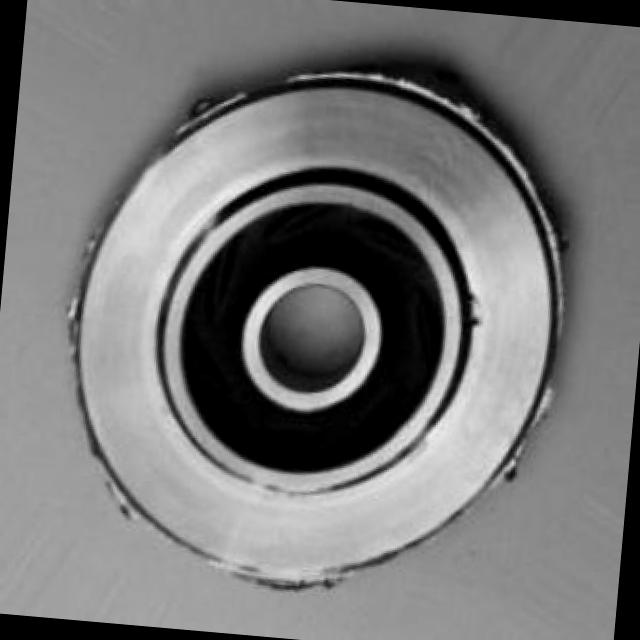Defect: (162, 81, 252, 130)
